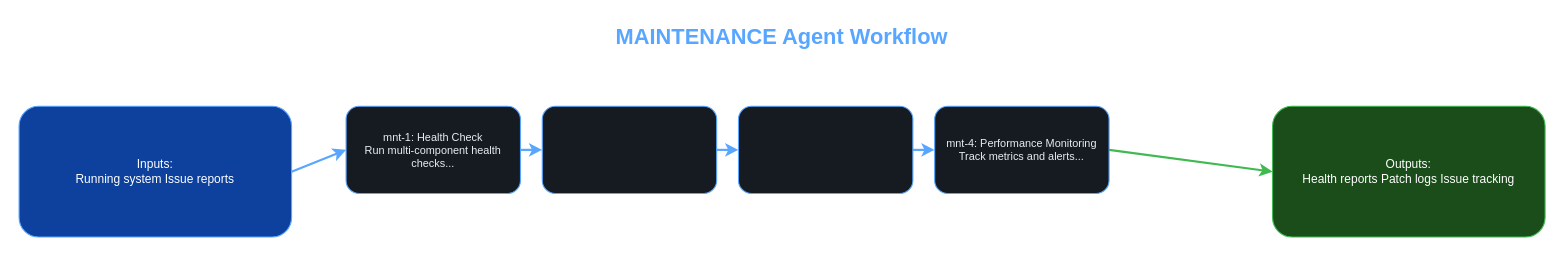
Image size: 1564x256. Some labels were removed from this diagram. Here are the shapes that lost their labels. From the top down, the centre of each, then its label:
At (x=629, y=149): "mnt-2: Issue Tracking Track and manage issues...".
At (x=825, y=149): "mnt-3: Patch Management Apply security and bug fix patches...".
